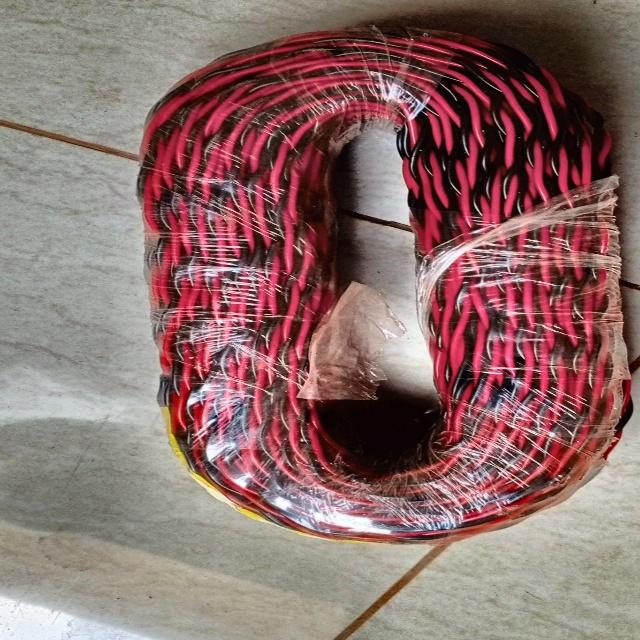Connecting Wires: (101, 19, 638, 543)
